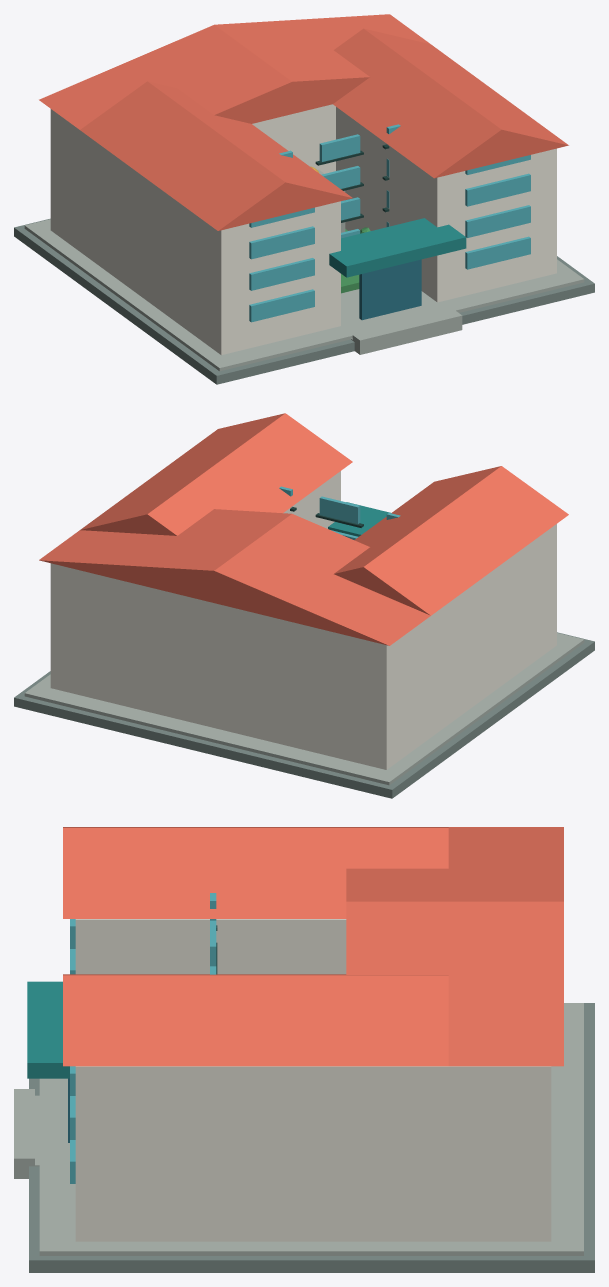
Rendered from university_lv1.glb.
3 views of the same model, one above another, from view 1: azimuth 30°, elevation 25°; view 2: azimuth 150°, elevation 25°; view 3: azimuth 270°, elevation 25° (orthographic). The views are drawn at different scales.
Visible parts, largest first — view 1: coral, ivory, concrete, glass, pavement, teal, glassDark; view 2: ivory, coral, concrete, pavement, glass, teal; view 3: coral, ivory, concrete, pavement, teal, glass.
Boxes of the visible parts, <box> form: coral: <box>39,14,568,230</box>; ivory: <box>50,104,556,355</box>; concrete: <box>24,169,584,371</box>; glass: <box>249,124,530,322</box>; pavement: <box>14,218,594,384</box>; teal: <box>329,218,466,277</box>; glassDark: <box>359,259,421,320</box>; ivory: <box>50,471,556,769</box>; coral: <box>39,413,568,645</box>; concrete: <box>24,633,584,785</box>; pavement: <box>14,632,594,798</box>; glass: <box>279,486,400,539</box>; teal: <box>328,502,390,536</box>; coral: <box>63,827,563,1066</box>; ivory: <box>75,919,551,1241</box>; concrete: <box>14,1003,583,1255</box>; pavement: <box>29,1003,594,1272</box>; teal: <box>27,981,69,1078</box>; glass: <box>70,893,216,1183</box>.
Bounding box in the file's own units: 9.8 × 4.3 × 9.34.
